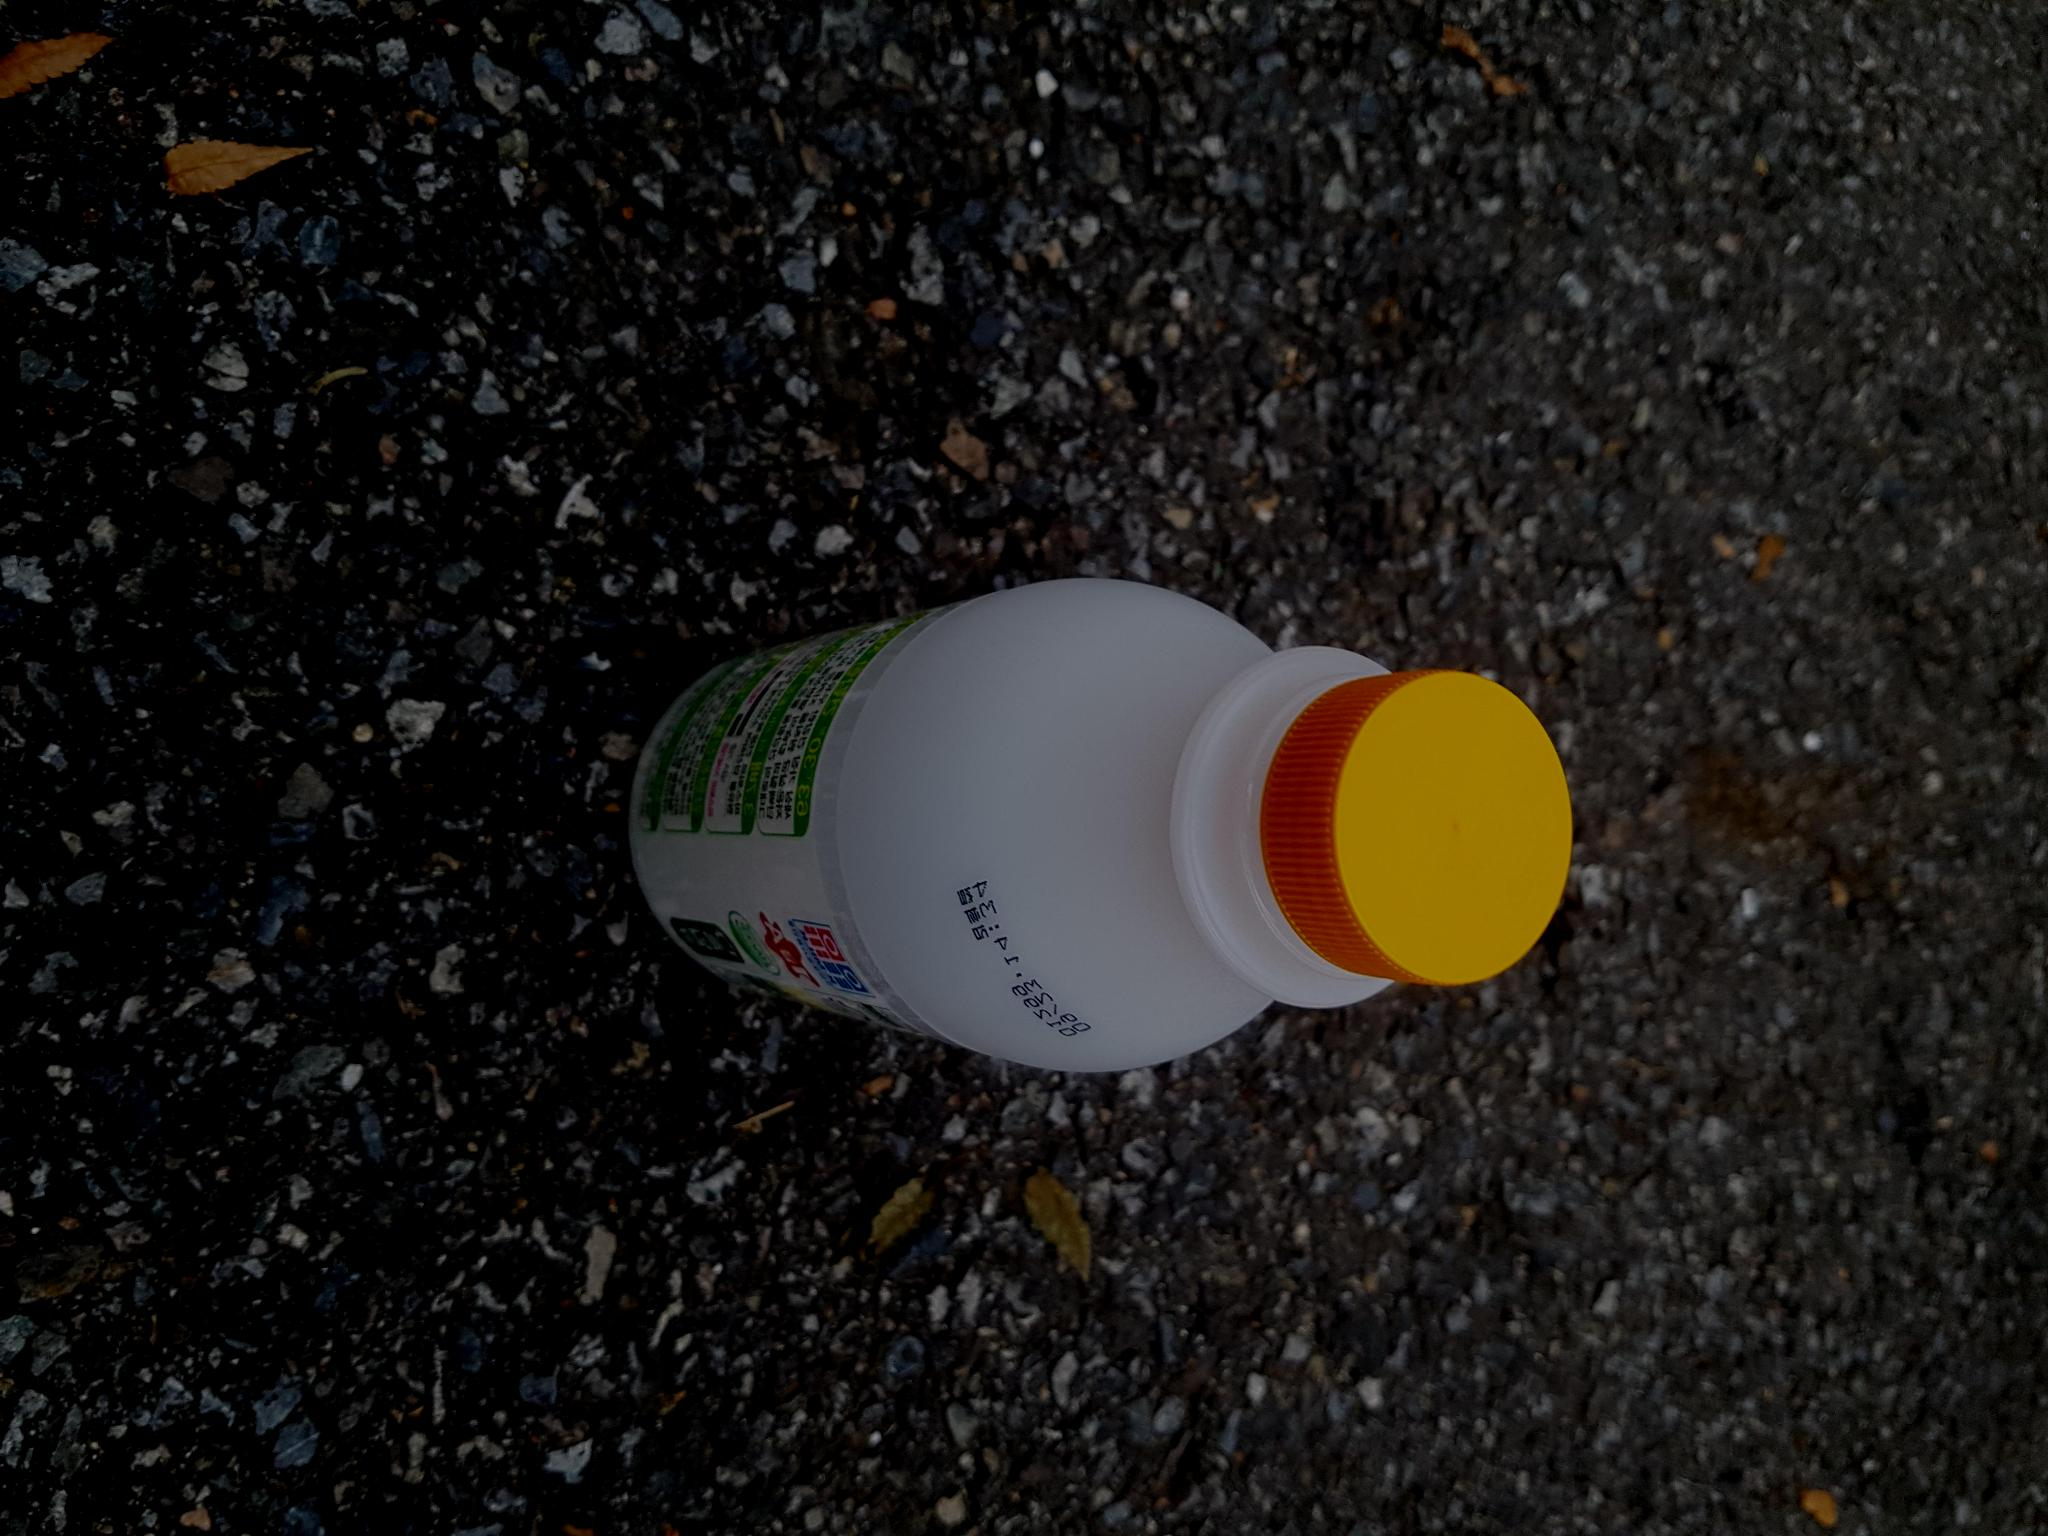bottle: (611, 566, 1584, 1066)
